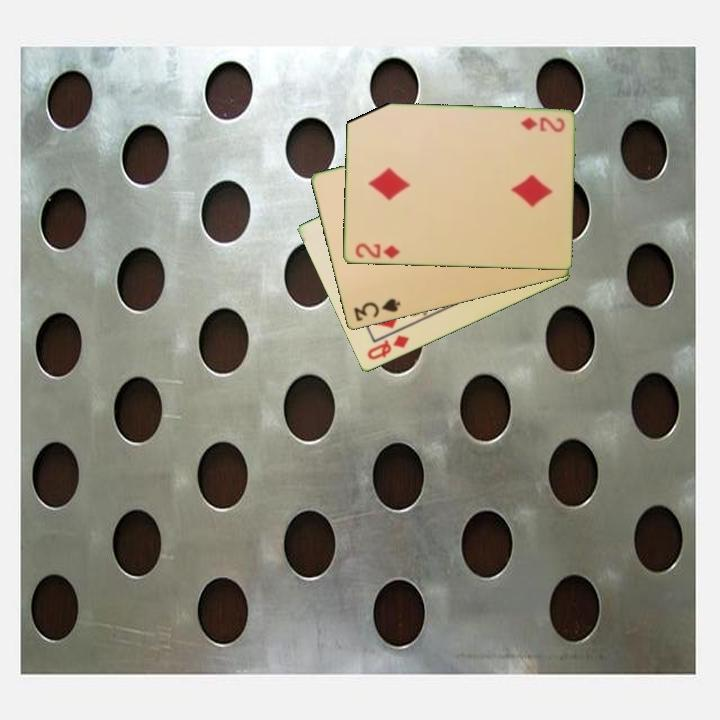2d: (351, 240, 402, 261), (517, 114, 567, 135)
3s: (350, 295, 403, 325)
Qd: (363, 332, 412, 363)
